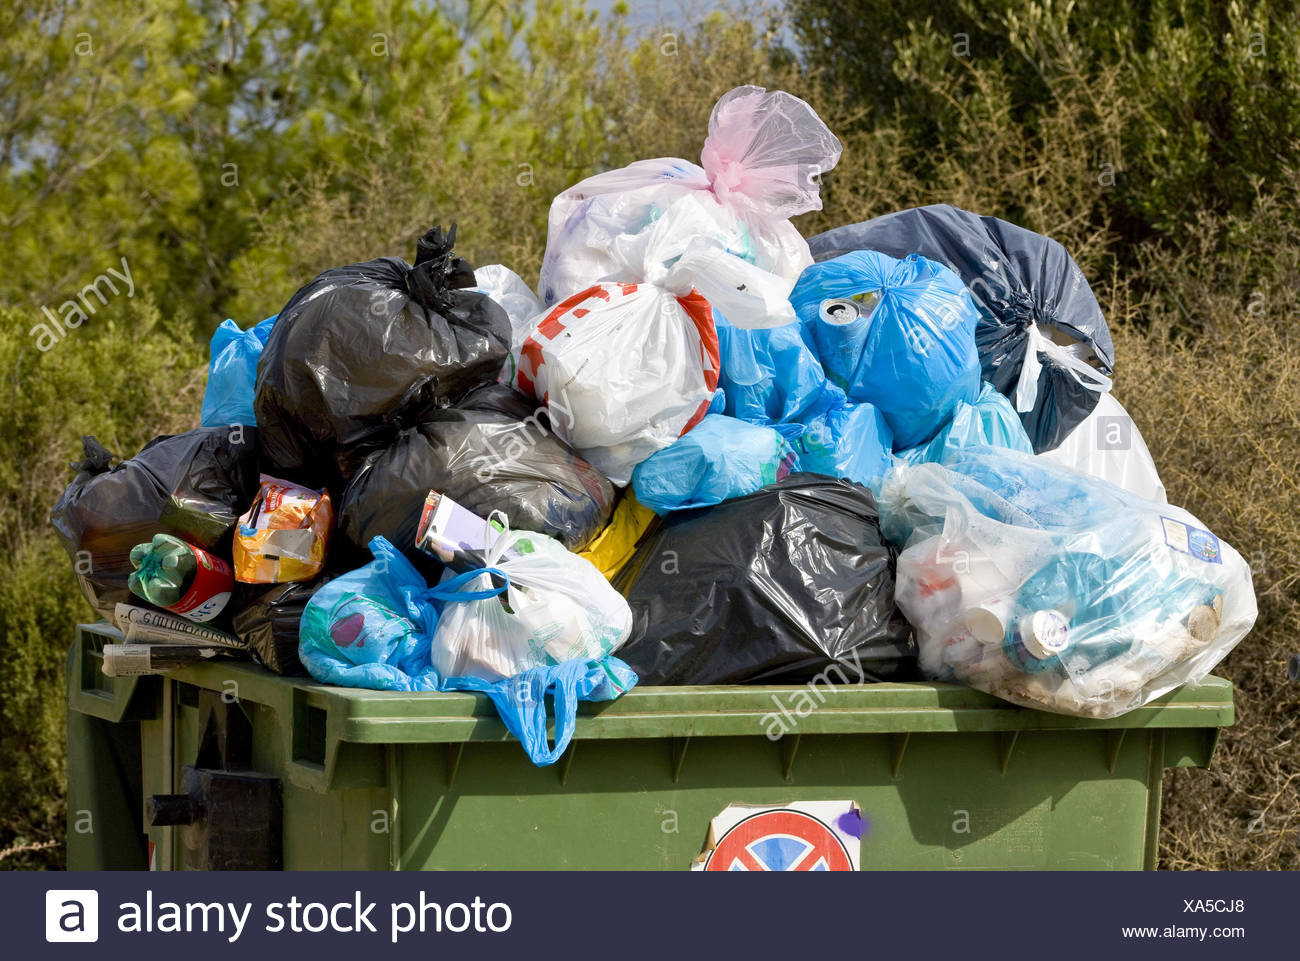plastic_bagwdw: (850, 355, 1286, 822), (776, 116, 1209, 499), (474, 46, 881, 398), (231, 138, 601, 521), (409, 450, 724, 851), (573, 452, 937, 723), (14, 343, 340, 629), (250, 454, 470, 798), (748, 169, 991, 434), (601, 361, 806, 573), (152, 255, 324, 497)
